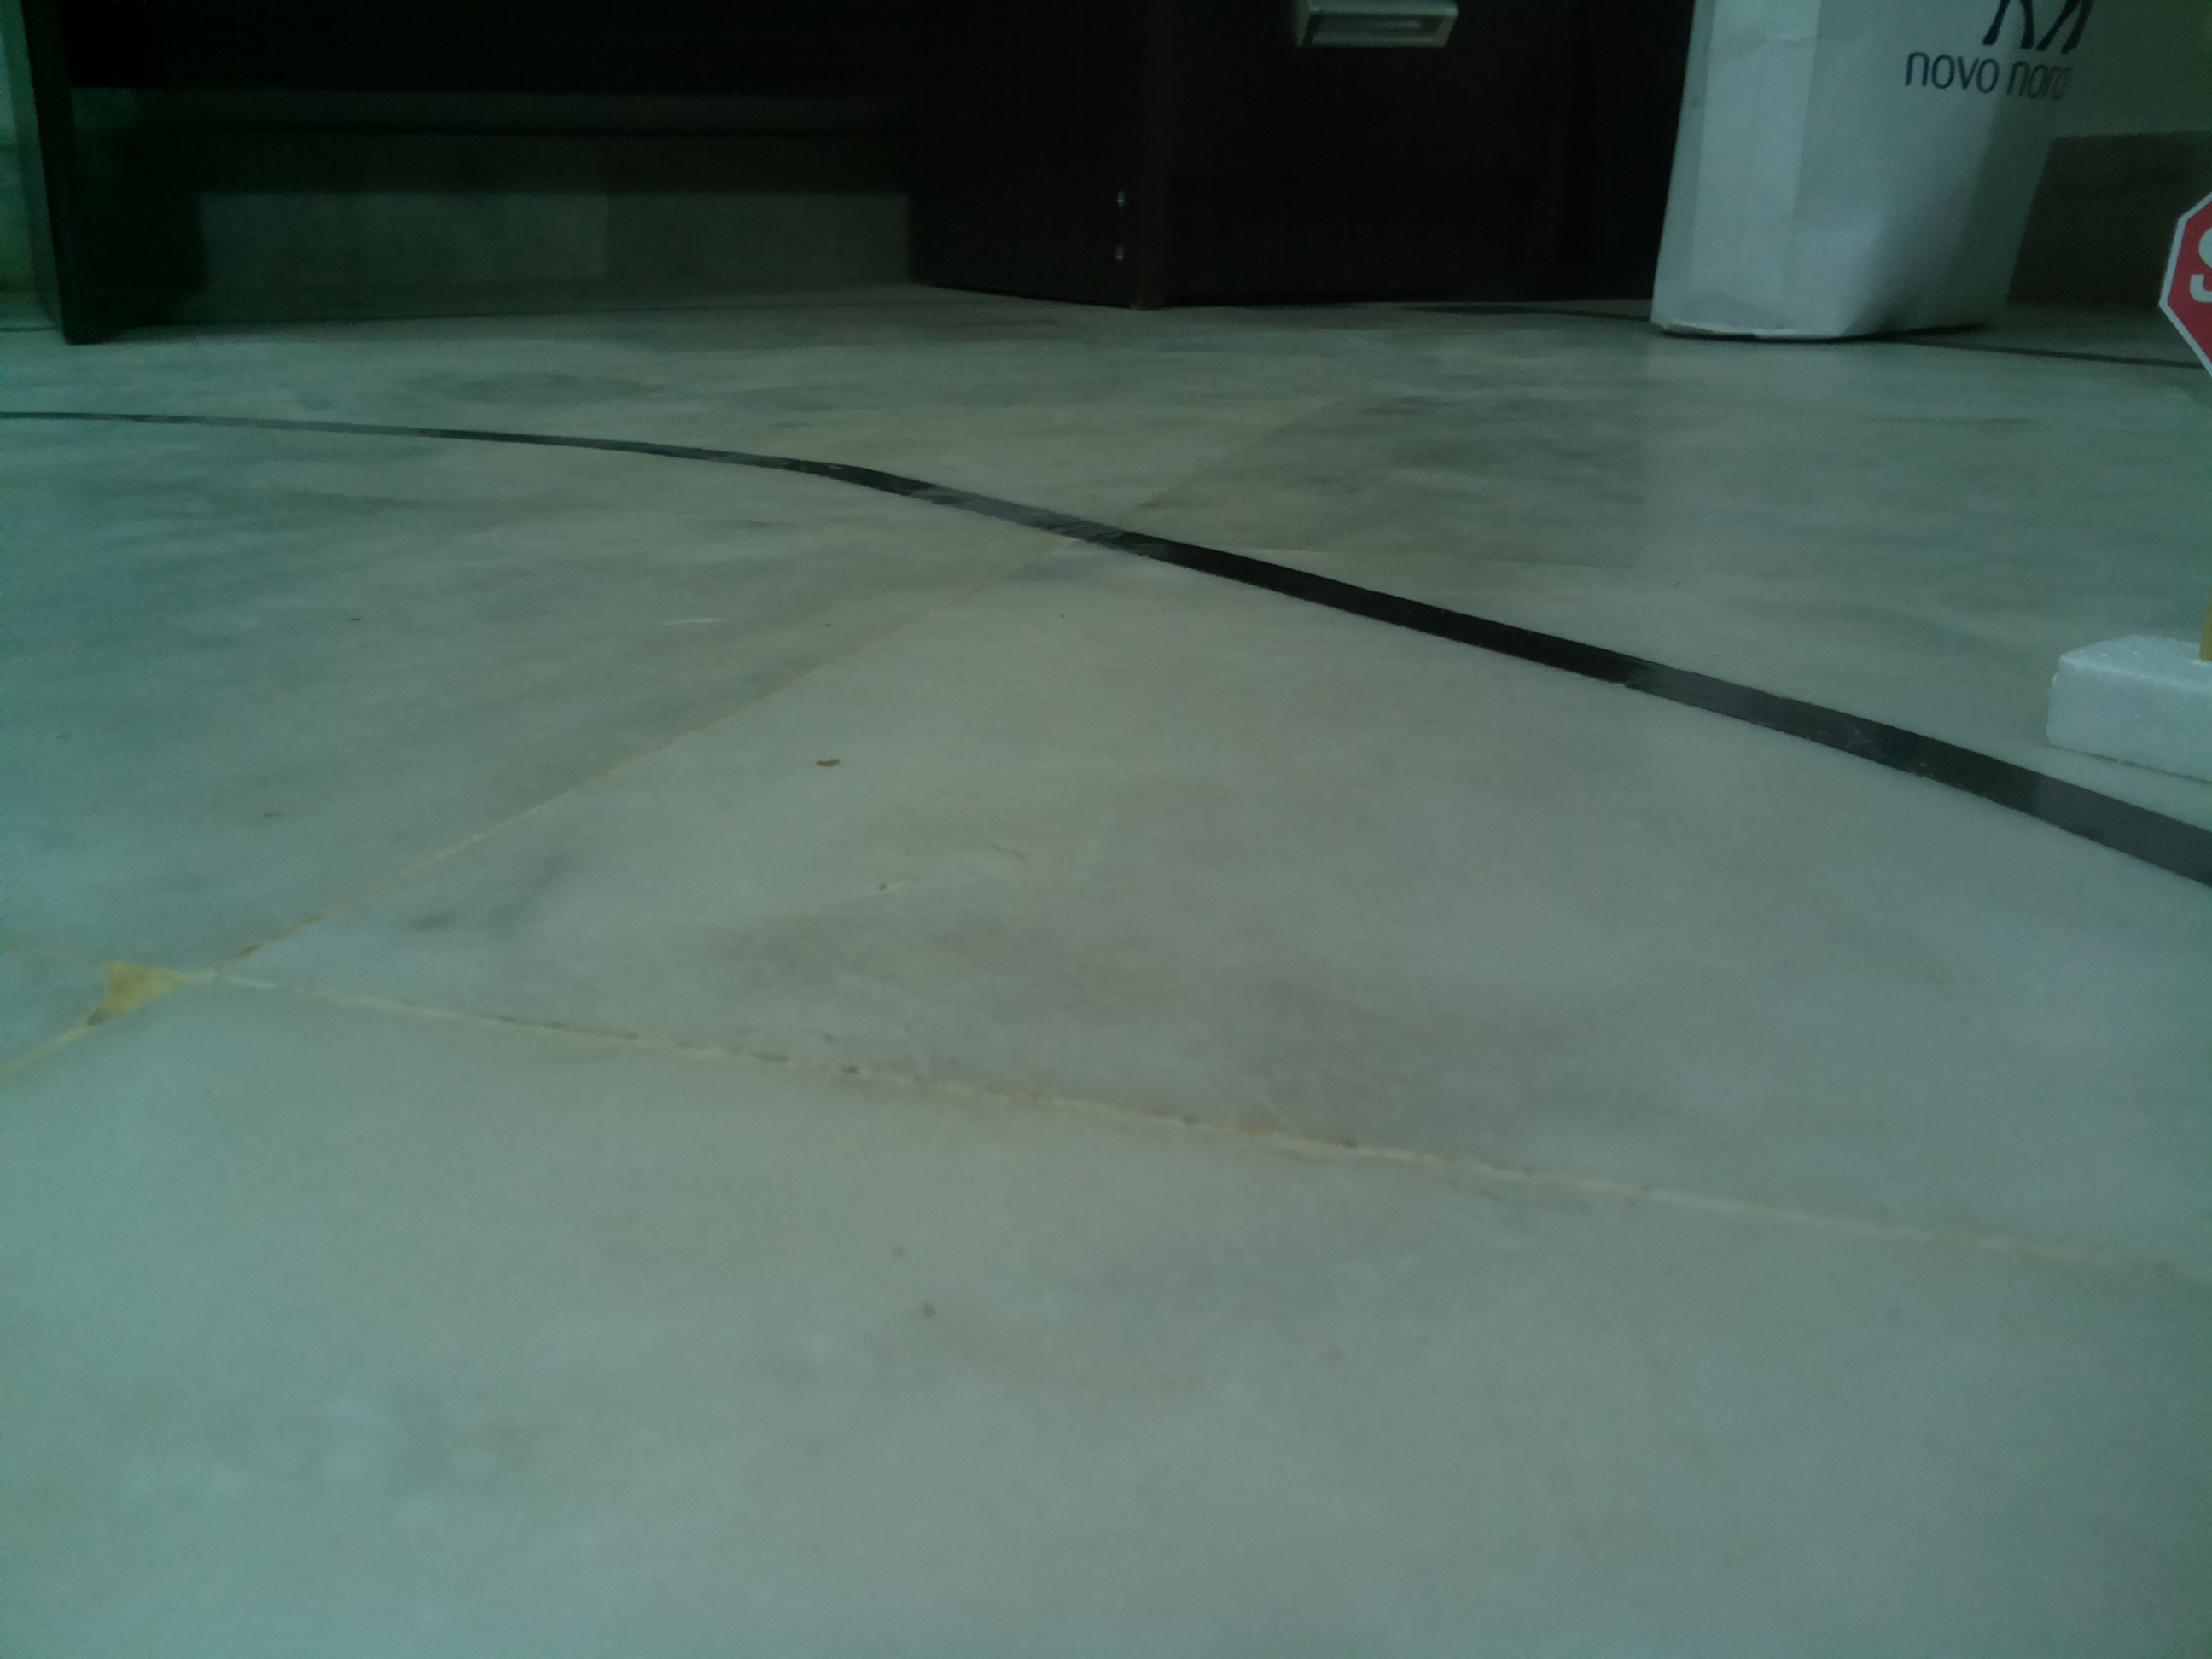Stop sign: (2151, 171, 2212, 408)
